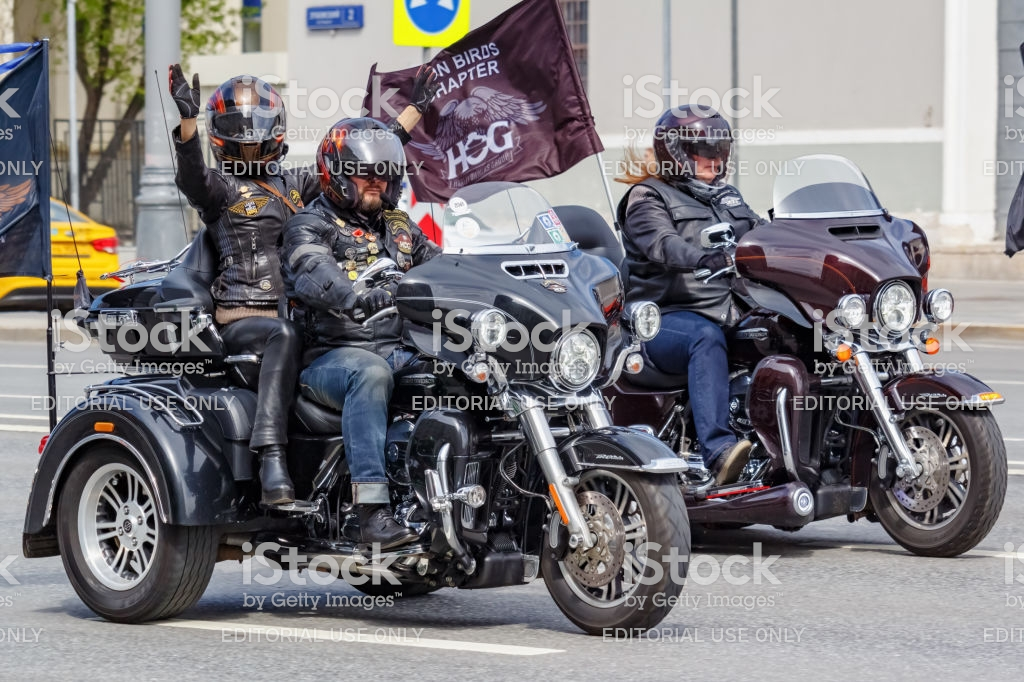helmet: (198, 68, 296, 180), (311, 118, 407, 213), (650, 96, 738, 188)
